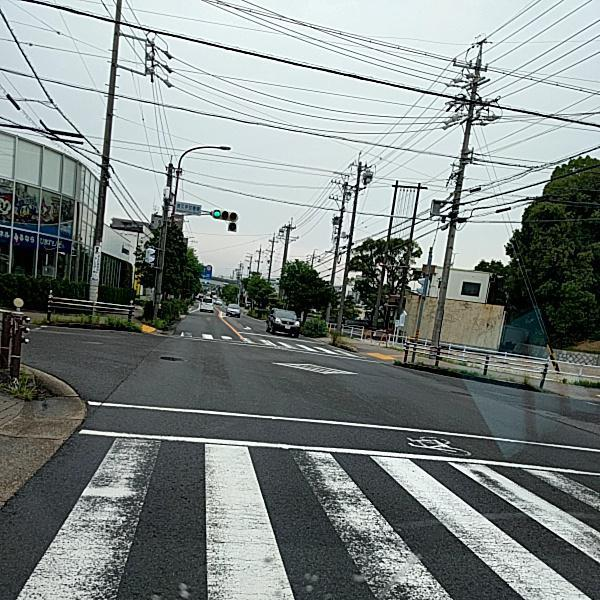D43: (10, 424, 599, 599)
